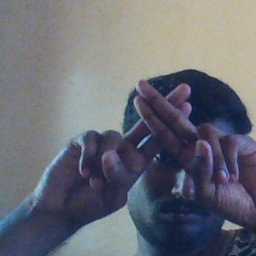F: (99, 74, 227, 189)
